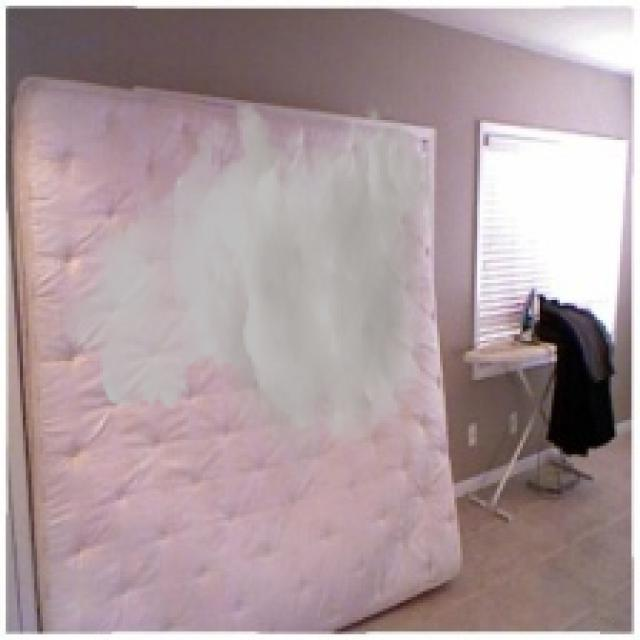Smoke: (52, 100, 434, 494)
